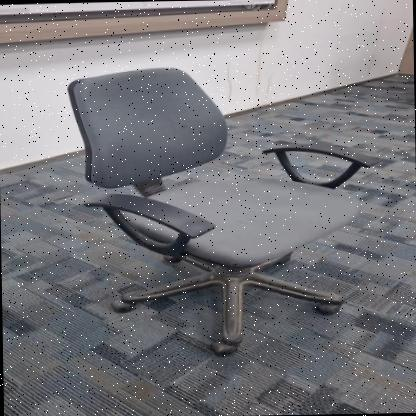chair: (58, 55, 382, 362)
